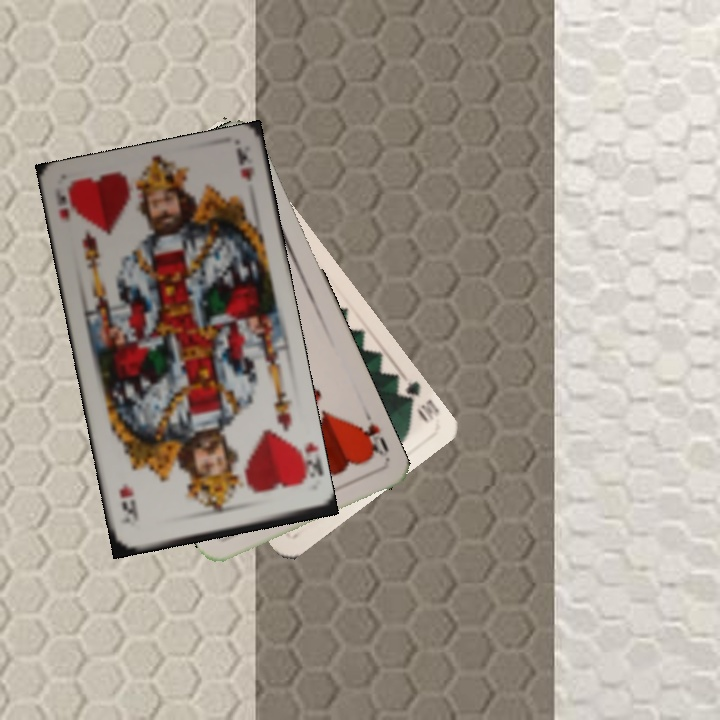G10: (395, 377, 442, 426)
HK: (287, 436, 322, 488), (51, 186, 73, 225)
HO: (353, 406, 392, 462)
